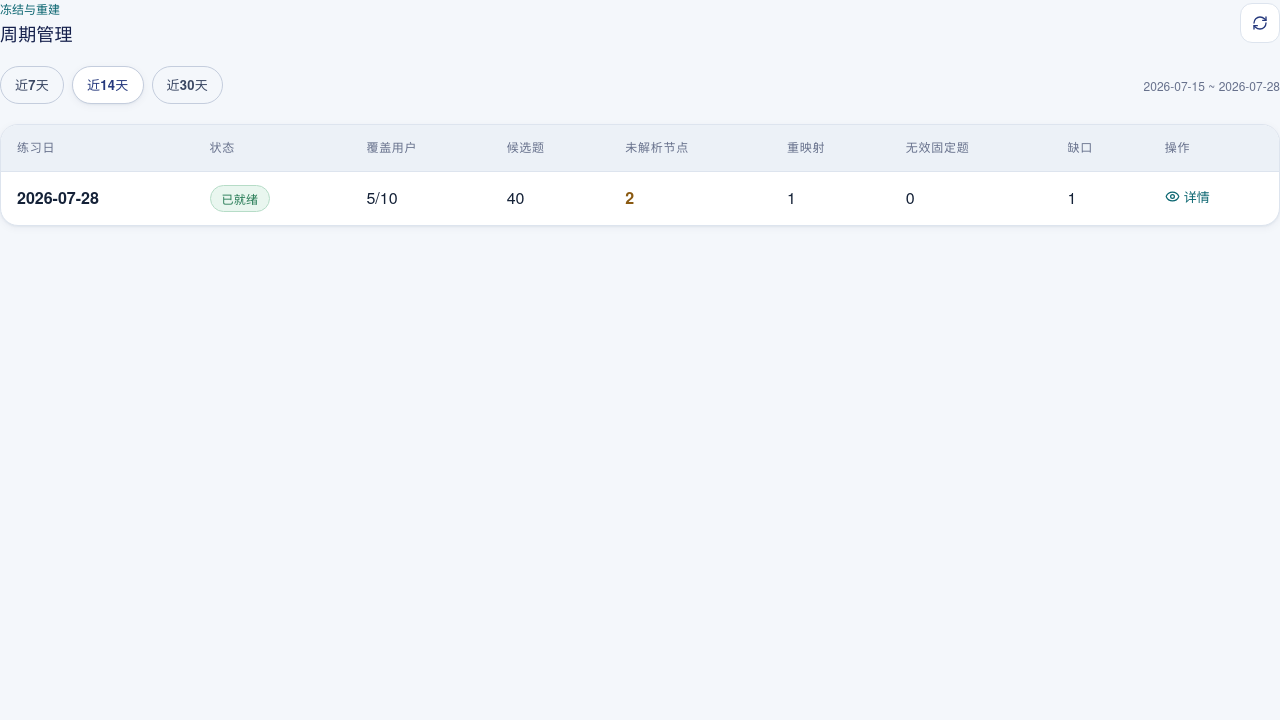
Scenario: AdminDailyCycles › warns inside the drawer when the frozen pool is empty
Click the button with class "action-link".
click(1187, 197)  # box [1165,187,1210,207]
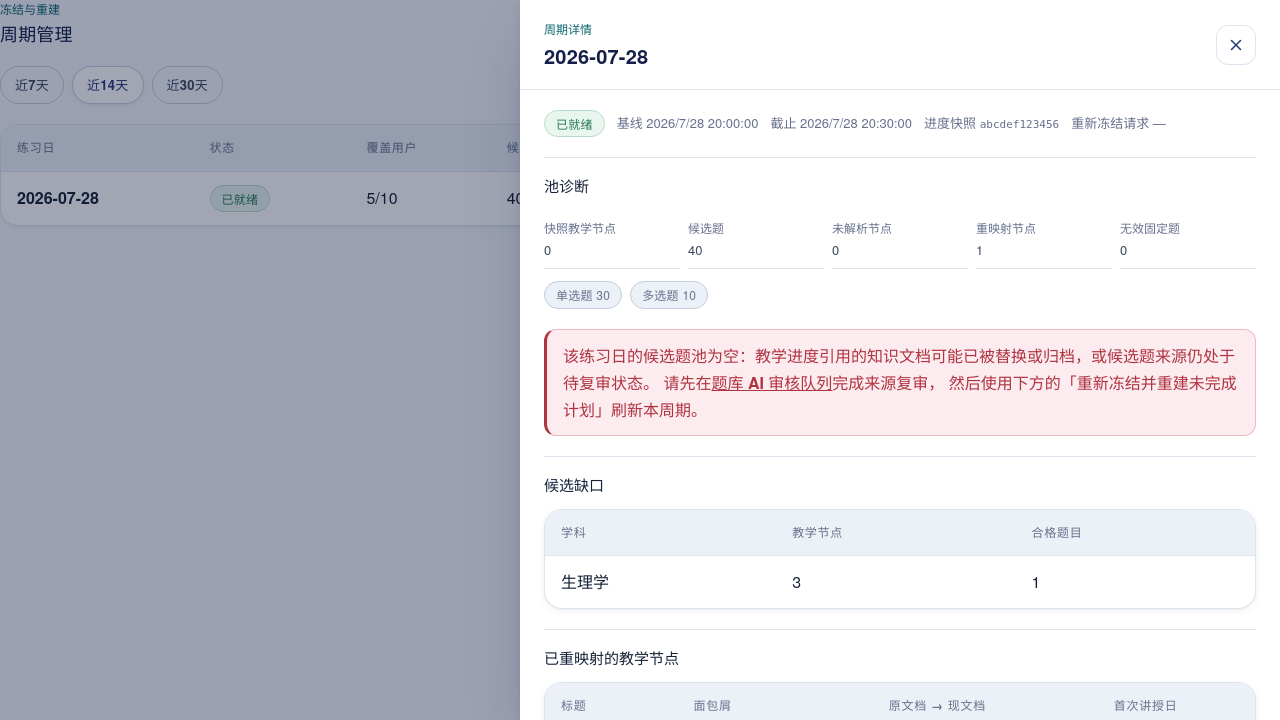
Now the element with class "error" shows "候选题池为空", box [563,344,1235,394]
Now the element with class "error" shows "重新冻结", box [563,371,1237,421]
